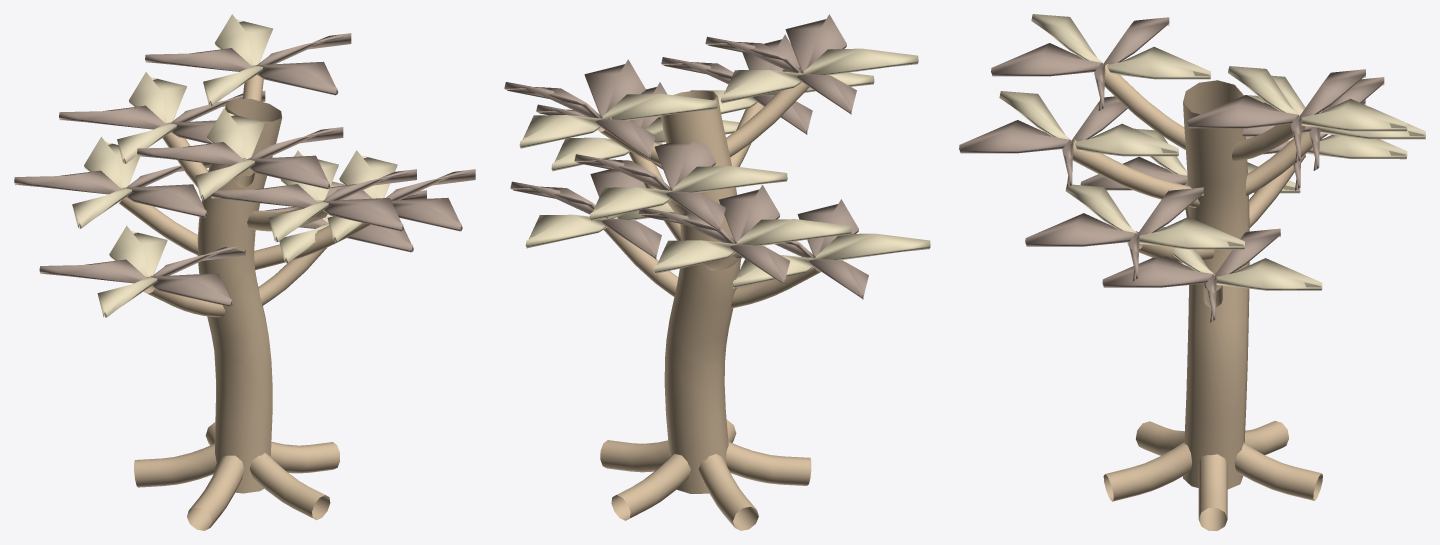
File: bio_canopy_tree_11_far.glb
3 renders of one model, left to right at view 1: azimuth 30°, elevation 25°; view 2: azimuth 150°, elevation 25°; view 3: azimuth 270°, elevation 25°, orthographic. The views are drawn at different scales.
Visible parts, largest first — view 1: Buttressed trunk, Broad canopy leaf.035, Broad canopy leaf.015, Broad canopy leaf.010, Broad canopy leaf.020, Broad canopy leaf.005, Broad canopy leaf.030, Broad canopy leaf.021, Broad canopy leaf.036, Broad canopy leaf.016, Broad canopy leaf.025, Broad canopy leaf.031 (+5 smaller); view 2: Buttressed trunk, Broad canopy leaf.015, Broad canopy leaf.035, Broad canopy leaf.005, Broad canopy leaf.030, Broad canopy leaf.006, Broad canopy leaf.031, Broad canopy leaf.016, Broad canopy leaf.036, Broad canopy leaf.021, Broad canopy leaf, Broad canopy leaf.020 (+5 smaller); view 3: Buttressed trunk, Broad canopy leaf.035, Broad canopy leaf.015, Broad canopy leaf.025, Broad canopy leaf, Broad canopy leaf.010, Broad canopy leaf.016, Broad canopy leaf.011, Broad canopy leaf.026, Broad canopy leaf.036, Broad canopy leaf.001, Broad canopy leaf.006 (+4 smaller).
Part boxes in pixels (<box>): Buttressed trunk: <box>119,75,370,530</box>; Broad canopy leaf.035: <box>137,127,343,189</box>; Broad canopy leaf.015: <box>145,33,351,95</box>; Broad canopy leaf.010: <box>211,169,416,231</box>; Broad canopy leaf.020: <box>39,246,245,306</box>; Broad canopy leaf.005: <box>14,162,209,217</box>; Broad canopy leaf.030: <box>59,90,265,143</box>; Broad canopy leaf.021: <box>97,225,167,317</box>; Broad canopy leaf.036: <box>195,108,265,199</box>; Broad canopy leaf.016: <box>203,14,272,106</box>; Broad canopy leaf.025: <box>325,169,475,231</box>; Broad canopy leaf.031: <box>117,72,186,163</box>; Buttressed trunk: <box>598,71,820,530</box>; Broad canopy leaf.015: <box>504,59,655,159</box>; Broad canopy leaf.035: <box>705,14,856,114</box>; Broad canopy leaf.005: <box>638,185,789,284</box>; Broad canopy leaf.030: <box>574,141,725,232</box>; Broad canopy leaf.006: <box>654,219,851,273</box>; Broad canopy leaf.031: <box>589,166,787,220</box>; Broad canopy leaf.016: <box>519,93,717,148</box>; Broad canopy leaf.036: <box>720,48,918,103</box>; Broad canopy leaf.021: <box>732,233,930,288</box>; Broad canopy leaf: <box>510,169,661,259</box>; Broad canopy leaf.020: <box>775,199,868,299</box>; Buttressed trunk: <box>1072,64,1322,530</box>; Broad canopy leaf.035: <box>991,17,1169,110</box>; Broad canopy leaf.015: <box>1187,69,1365,163</box>; Broad canopy leaf.025: <box>1025,187,1203,281</box>; Broad canopy leaf: <box>1102,228,1280,322</box>; Broad canopy leaf.010: <box>959,96,1127,187</box>; Broad canopy leaf.016: <box>1228,66,1407,131</box>; Broad canopy leaf.011: <box>999,91,1178,156</box>; Broad canopy leaf.026: <box>1065,184,1244,249</box>; Broad canopy leaf.036: <box>1031,14,1210,79</box>; Broad canopy leaf.001: <box>1157,227,1322,290</box>; Broad canopy leaf.006: <box>1243,95,1407,159</box>.
Size of the model in its own units: 2.97 by 2.99 by 3.05.
